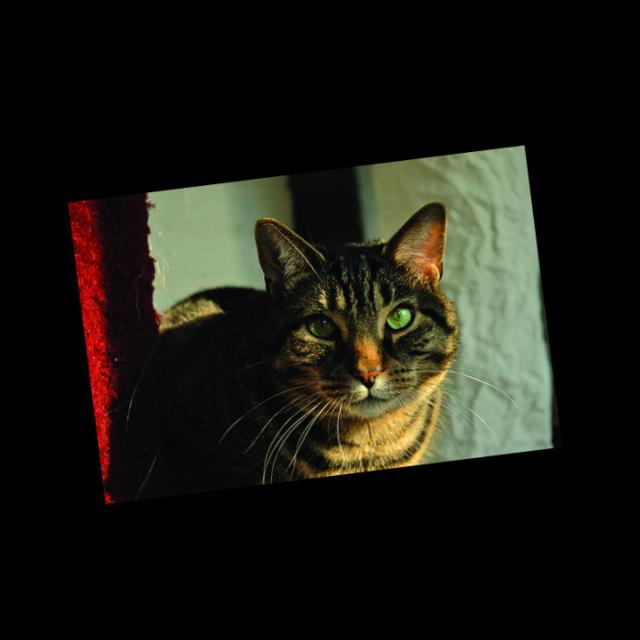animals: (258, 193, 466, 399)
